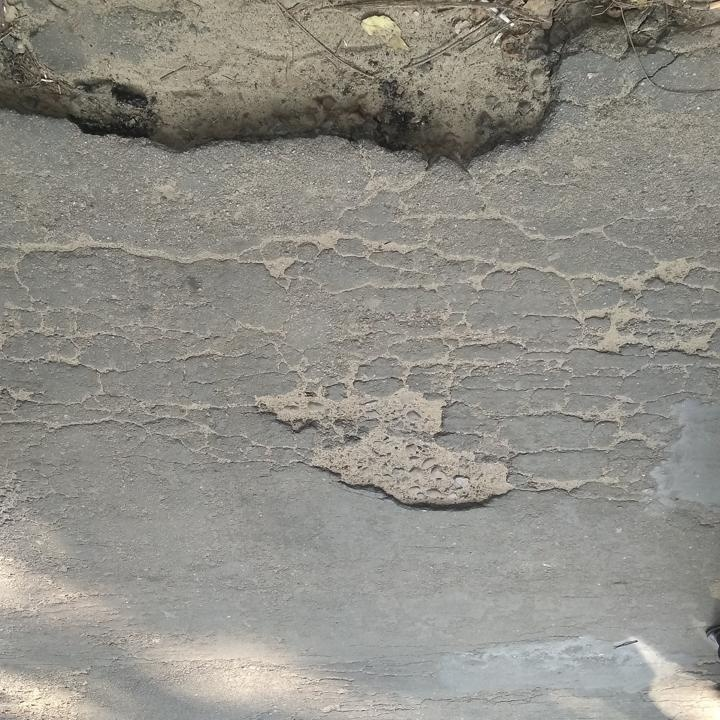pothole: (0, 0, 694, 182), (248, 386, 516, 515)
